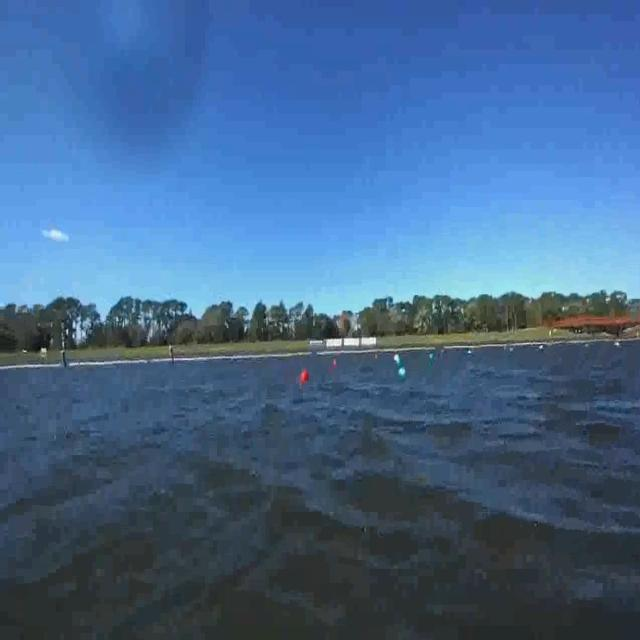green-buoy: (397, 364, 407, 381)
red-buoy: (302, 370, 310, 384)
